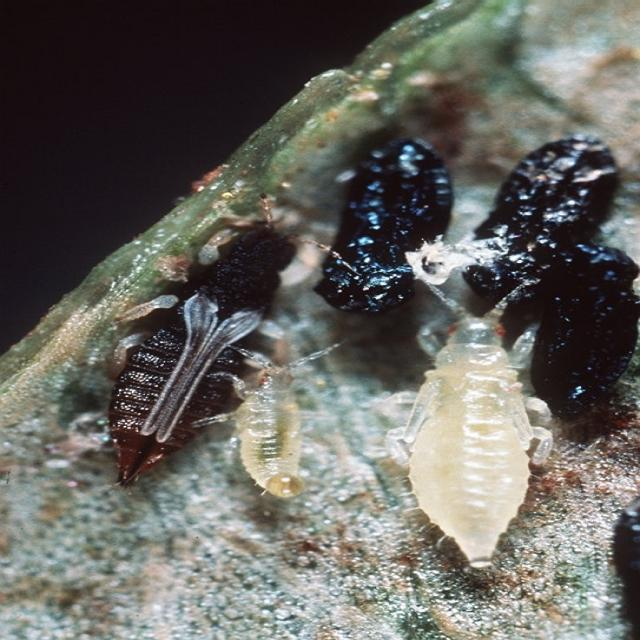Thrip-Adult-: (80, 194, 278, 486)
Thrip-Larva-: (375, 247, 576, 589), (202, 331, 340, 512)
